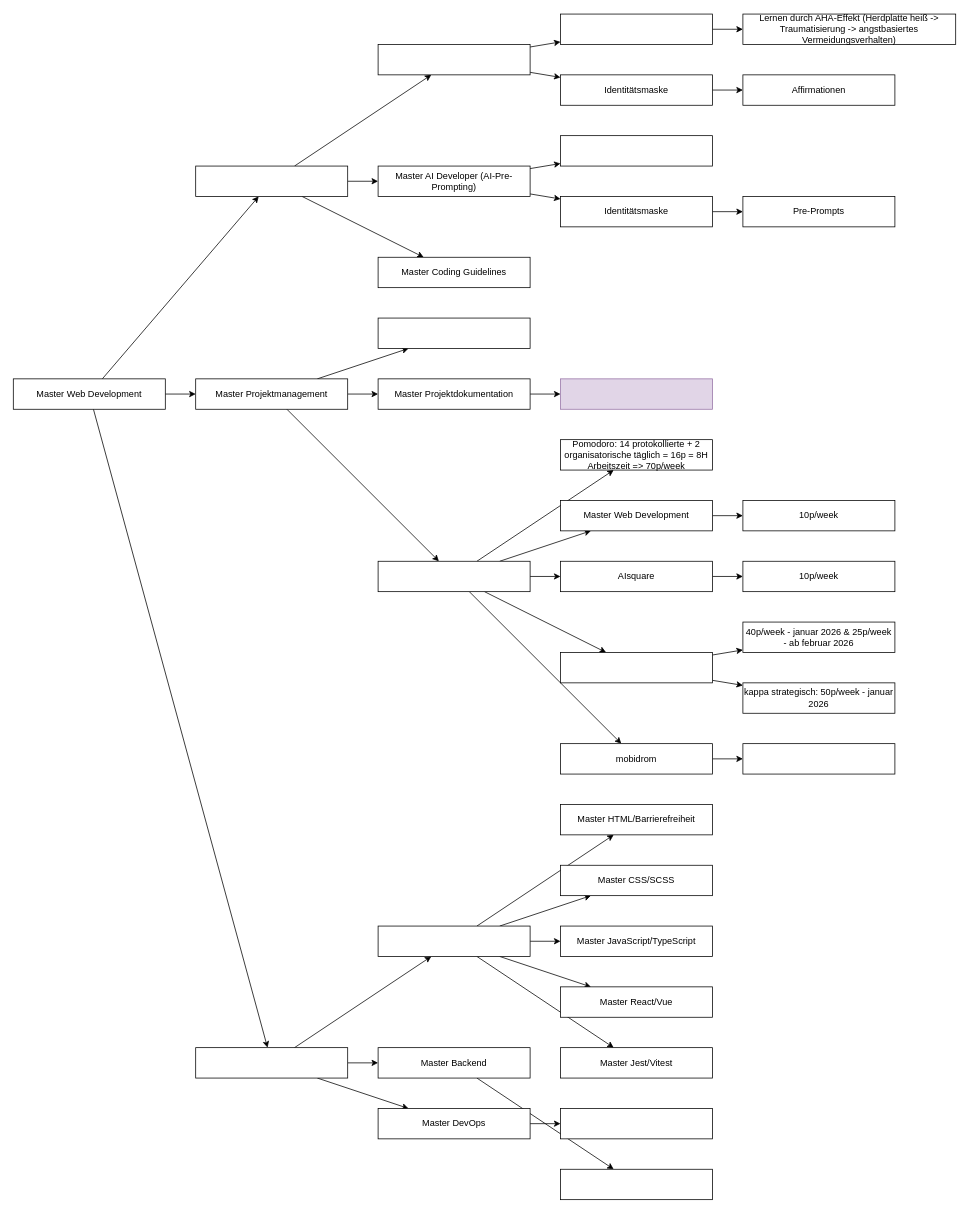
Image size: 969x1213. Some labels were removed from this diagram. Each missing label, with the centre of its shape:
10p/week - januar 2026 & 25p/week - ab februar 2026: [818,758]
Ein AI Developer ist ein LLM mit wahrscheinlichkeitsgewichteten Graphen: [636,150]
Ein Human Developer ist ein LLM mit emotionsgewichteten Graphen: [636,28]
FResist: [636,667]
Master ckan: [636,1184]
Master Entitymanagement: [271,180]
Master Frontend: [453,940]
Master Human Developer: [453,59]
Master Playwright: [636,1123]
Master Projektplanung: [453,332]
Master Projekttiming: [453,576]
Master Technologiemanagement: [271,1062]
master_web_development.drawio: [636,393]
